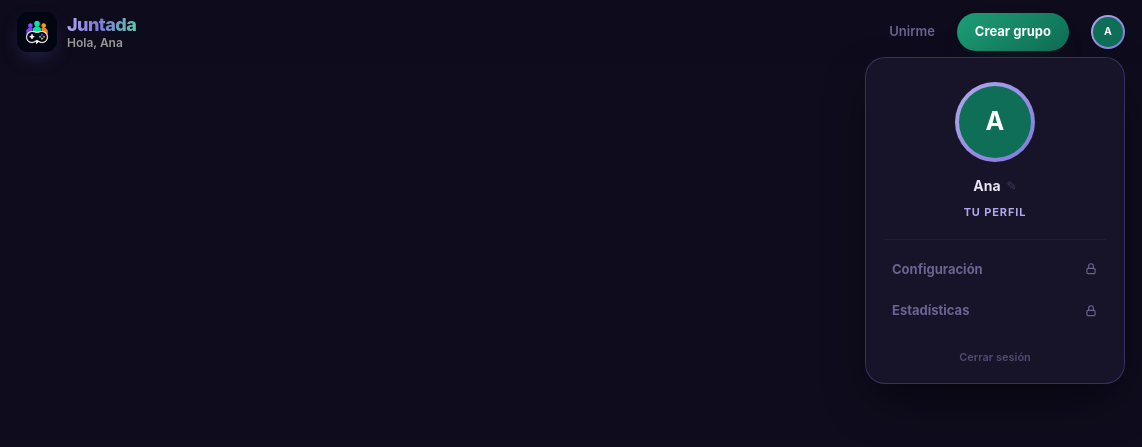
Test case: HomeNavbar › reveals the name editor only after clicking the name
This screenshot has width=1142, height=447.
Check: the text "Guardar" is not shown
Click the text "Ana". click: (987, 186)
box: [973,176,1001,196]
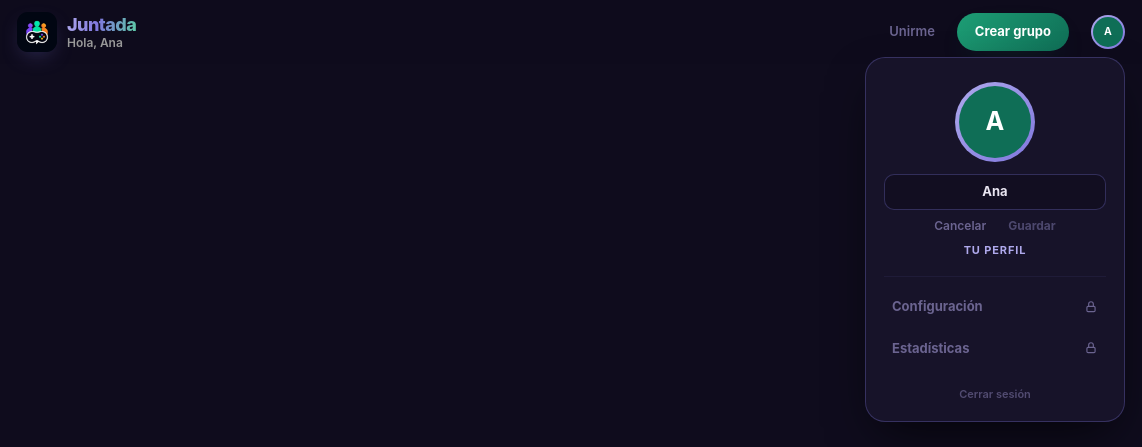
Check: the button "Guardar" is shown, box [1004,216,1060,236]
